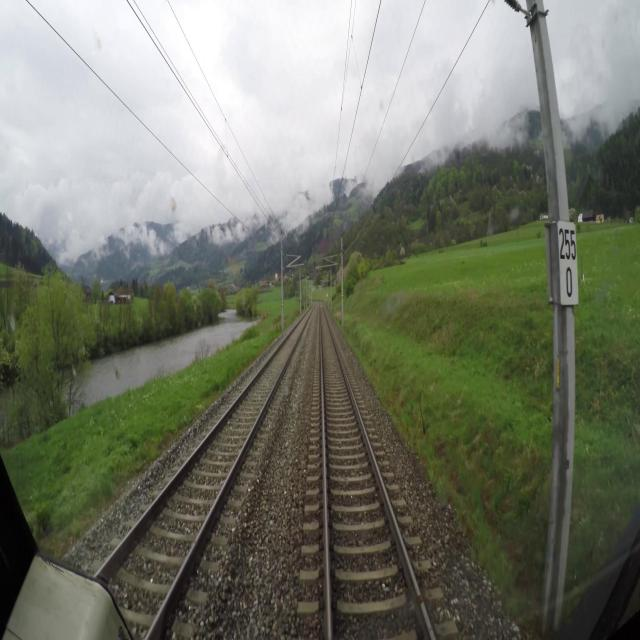rail-track: (100, 309, 311, 639), (321, 305, 431, 639)
